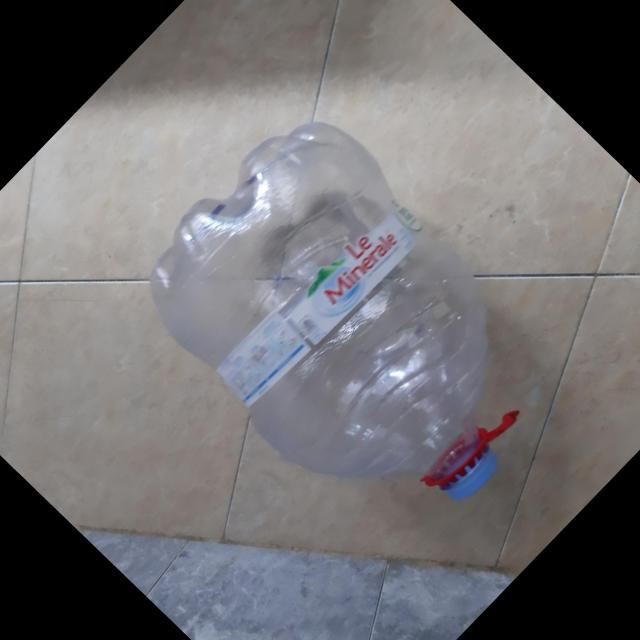Galon: (107, 89, 596, 575)
